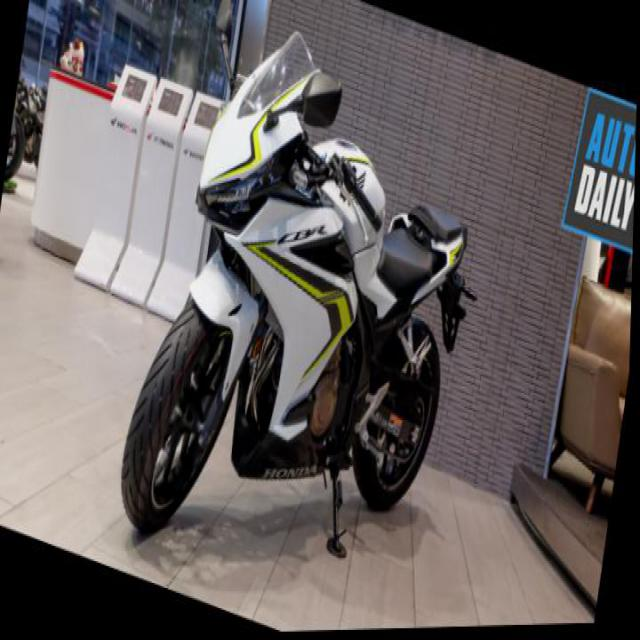CBR500R: (113, 0, 507, 635)
